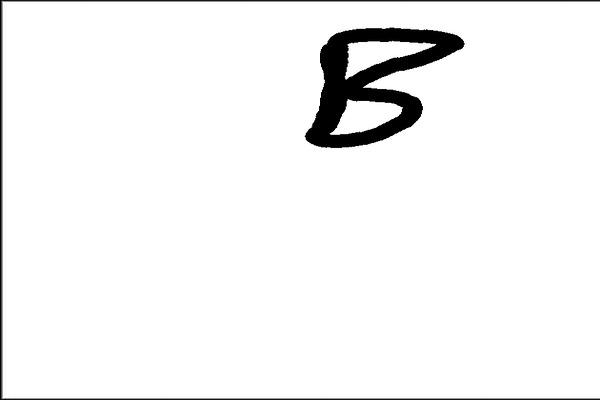B: (297, 17, 469, 157)
